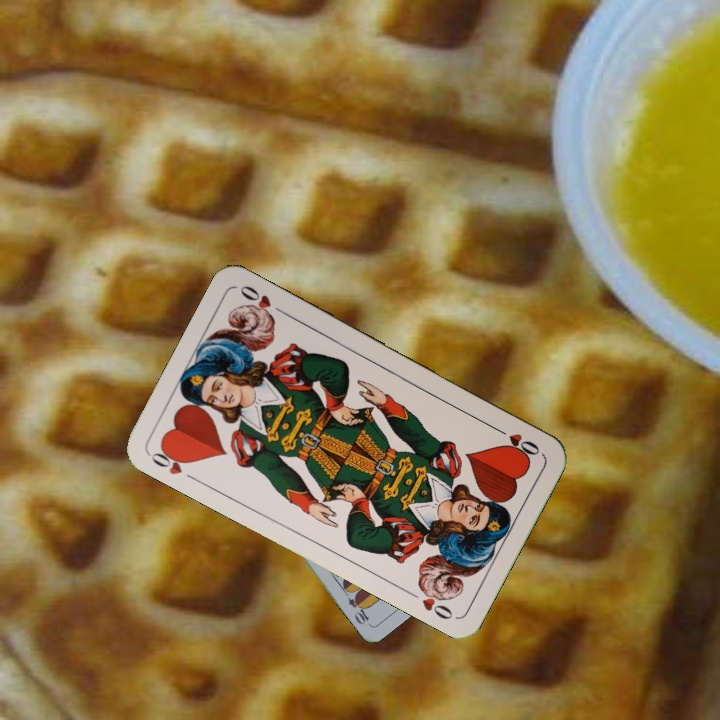HO: (146, 442, 200, 484), (489, 422, 543, 458)
